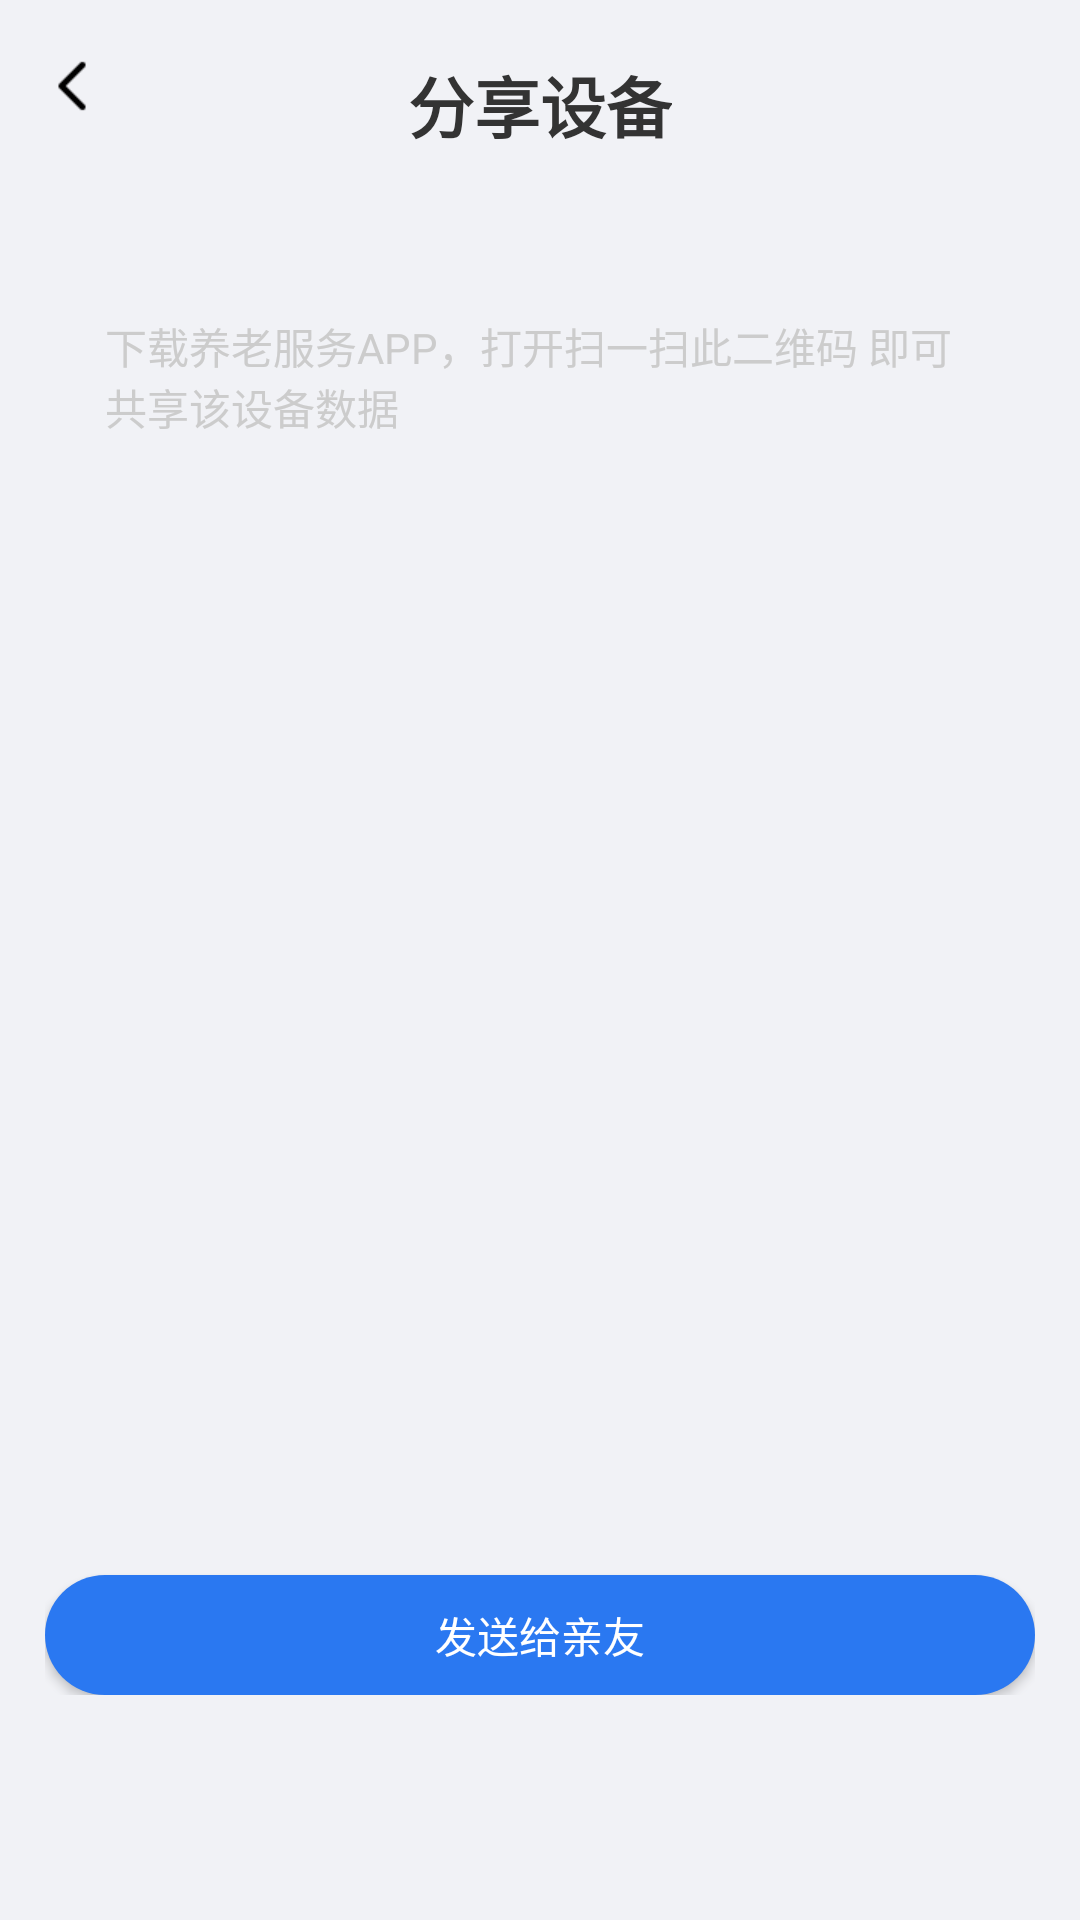

Named icons in this screenshot (1080×1920) and their centers, (x,y):
back: (72,86)
